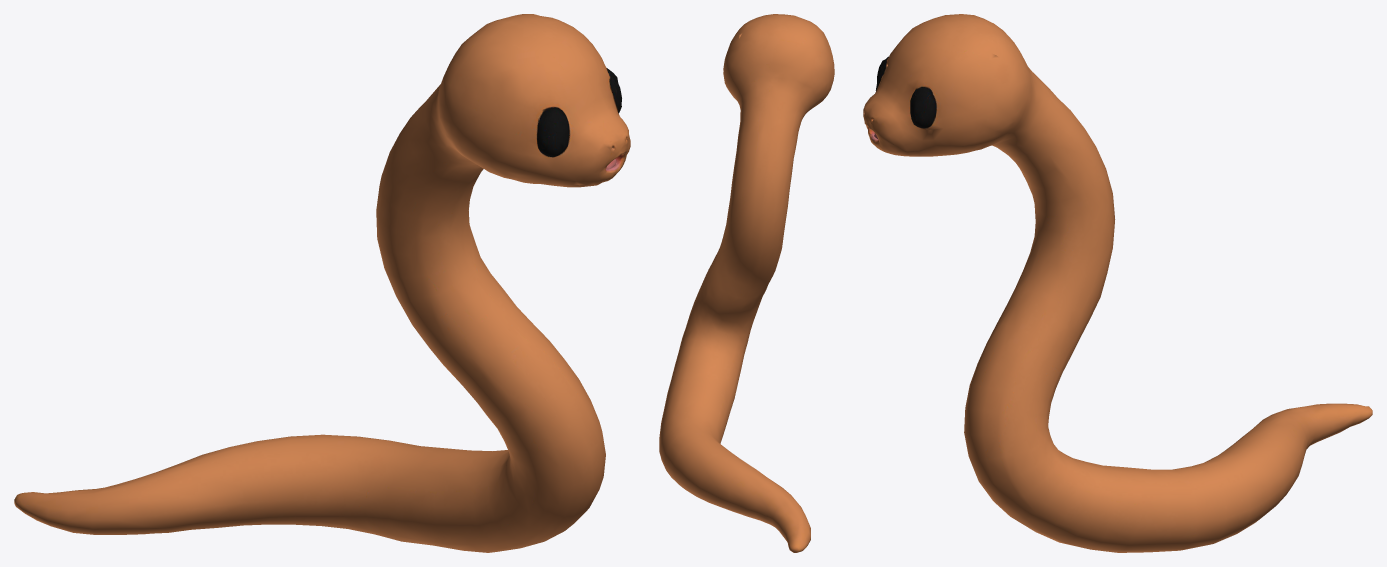
Rendered from asset_pack_item_glb-vd7d0dcraj58ycbcm7n9arqjjx8bztjr-9-ks791z4m8xya48n9wqwgbkq0518by11y.glb.
The picture shows the model from 3 angles, left to right: view 1: azimuth 30°, elevation 25°; view 2: azimuth 150°, elevation 25°; view 3: azimuth 270°, elevation 25°; orthographic projection. The views are drawn at different scales.
Visible parts, largest first — view 1: adult-nyoro; view 2: adult-nyoro; view 3: adult-nyoro.
Part boxes in pixels (x1=…): adult-nyoro: x1=14, y1=14, x2=630, y2=552; adult-nyoro: x1=659, y1=14, x2=834, y2=552; adult-nyoro: x1=863, y1=14, x2=1372, y2=552.
Size of the model in its own units: 0.6504 by 0.998 by 0.8887.
Materials: 1 (1 with a texture image).
